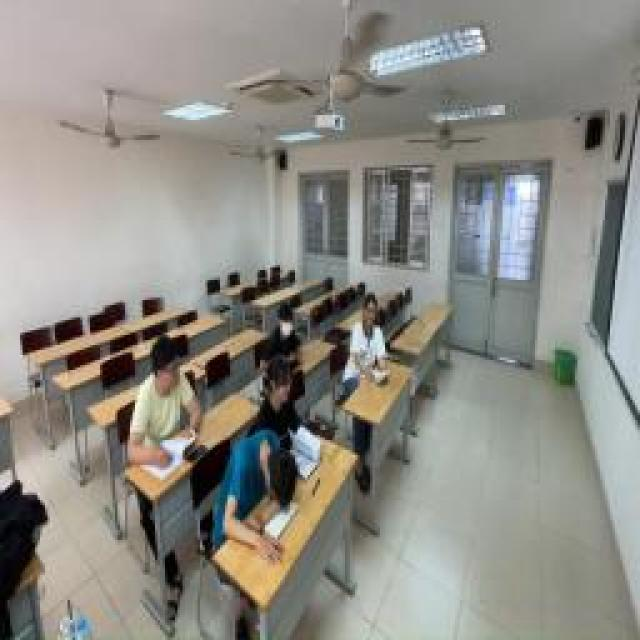study: (212, 430, 302, 562), (128, 338, 200, 472), (252, 360, 310, 478), (345, 295, 390, 385), (260, 305, 300, 373)
